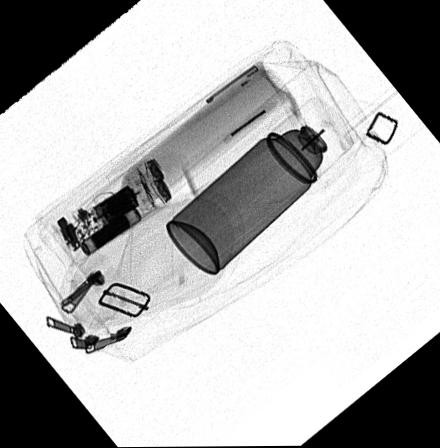Sprayer: (164, 98, 353, 275)
